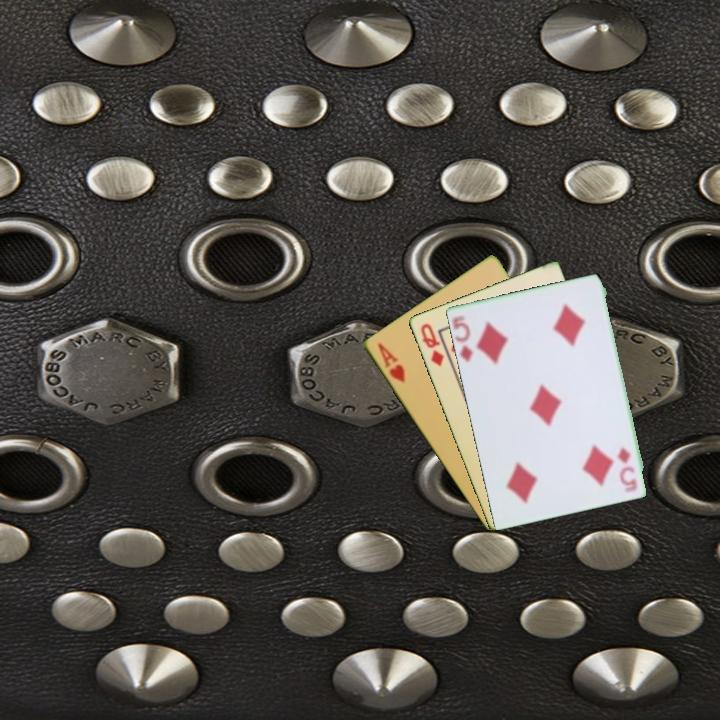5d: (449, 311, 475, 365), (615, 443, 641, 493)
Ah: (373, 339, 408, 386)
Qd: (417, 319, 446, 370)
